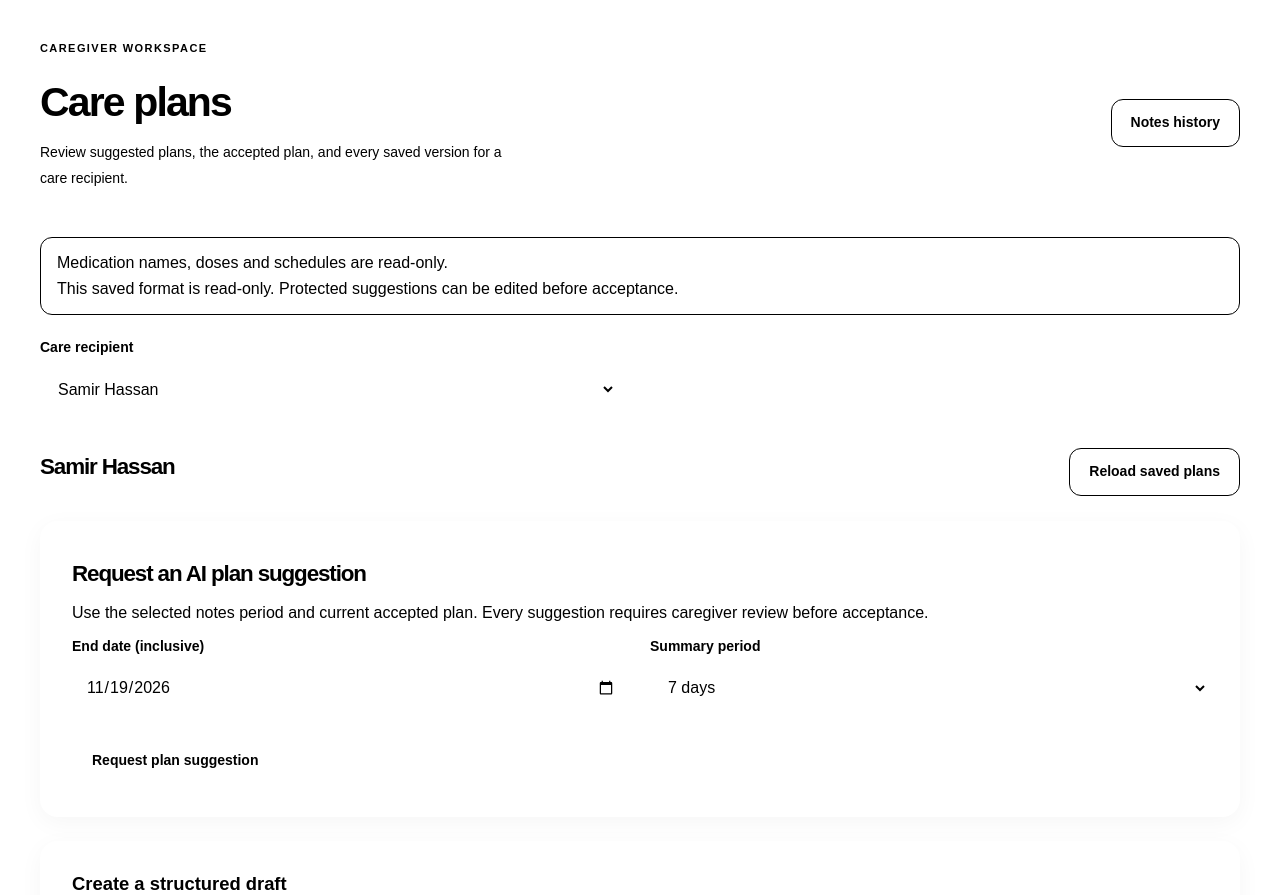
Test: care-plan review and authoritative backend decisions › generates a plan using current in-memory BYOK credentials
Step 1. Type "2026-10-22" into the date field labelled "End date (inclusive)" → (351, 688), box [72,663,630,713]
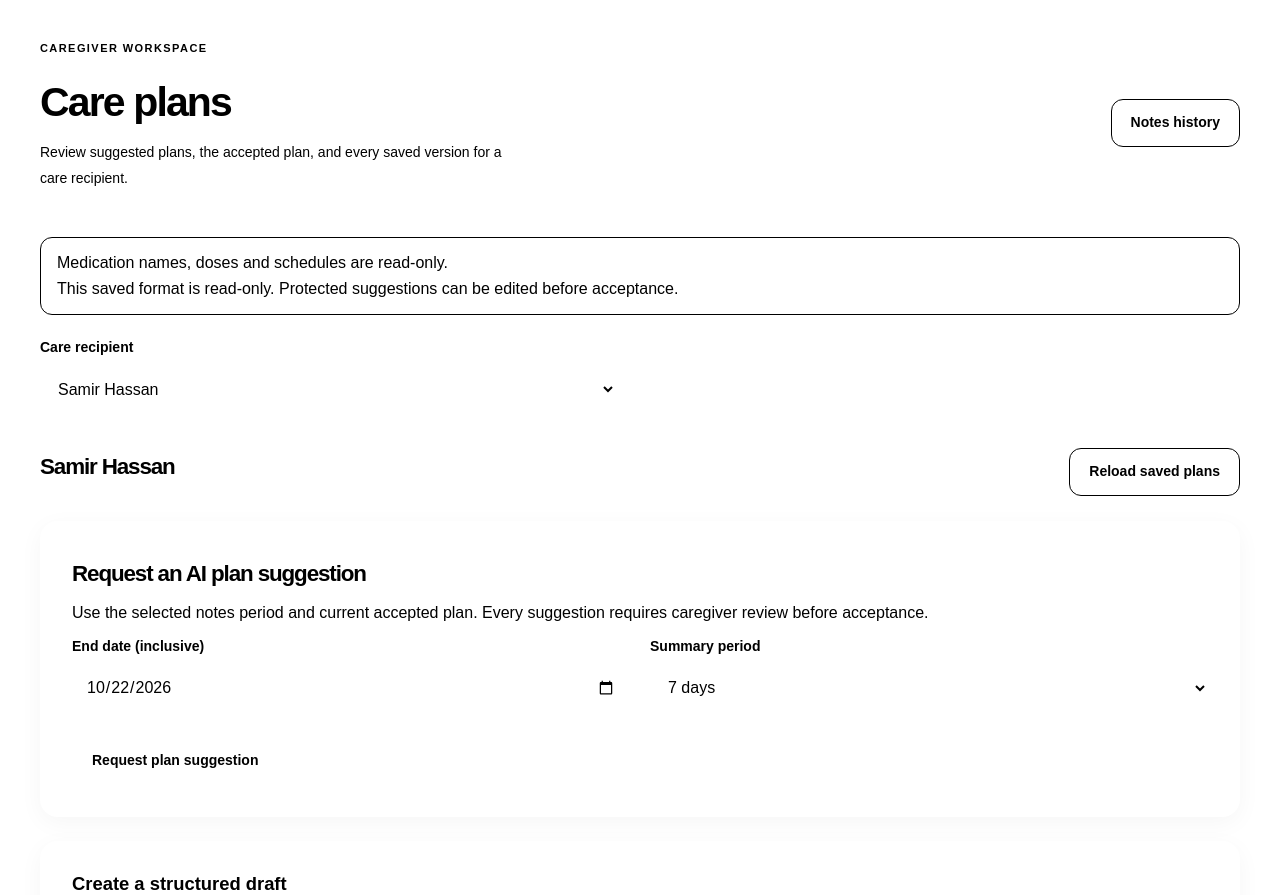
Step 2. Select "14 days" in the dropdown labelled "Summary period" → (929, 688), box [650,663,1208,713]
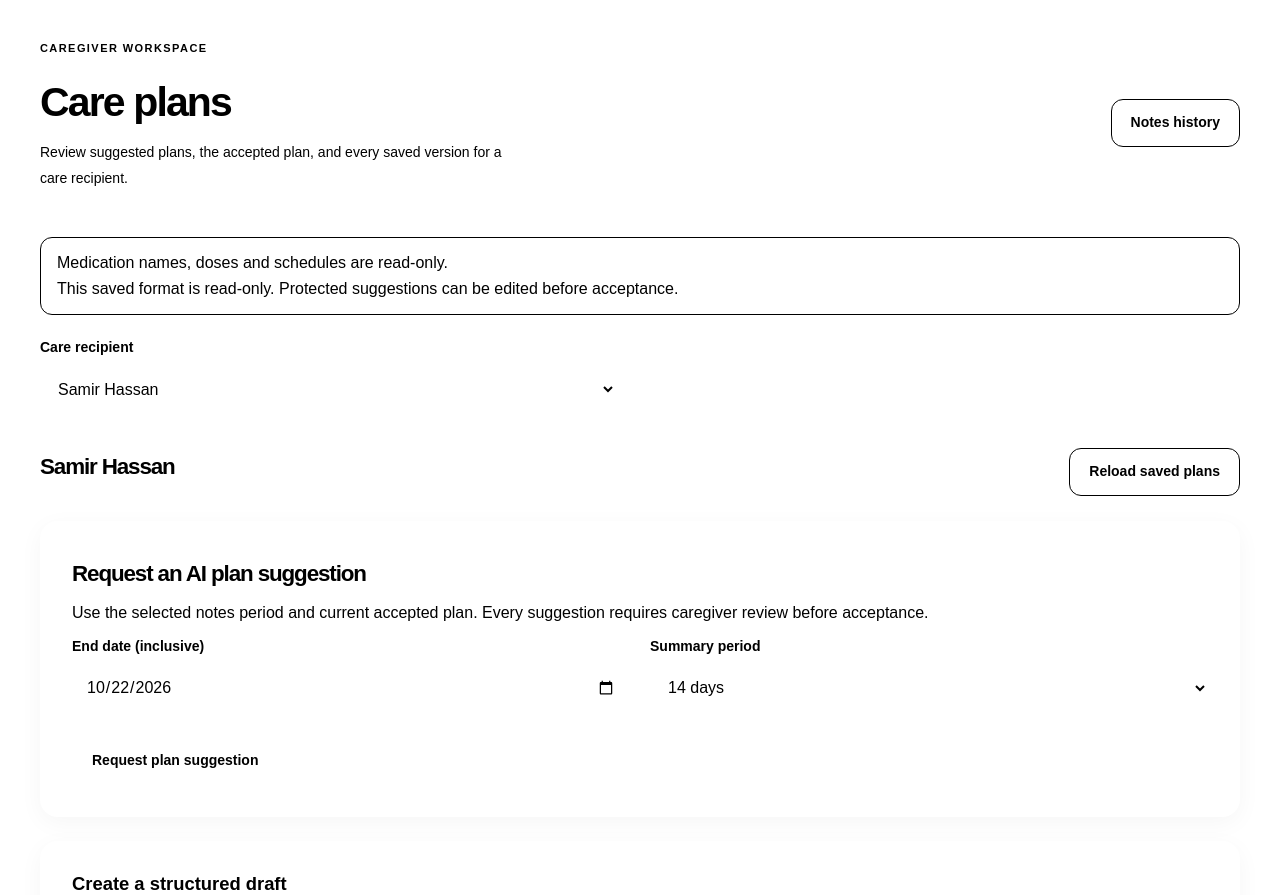
Step 3. Click the button "Request plan suggestion" → (175, 761), box [72,737,278,785]
(page scrolled)
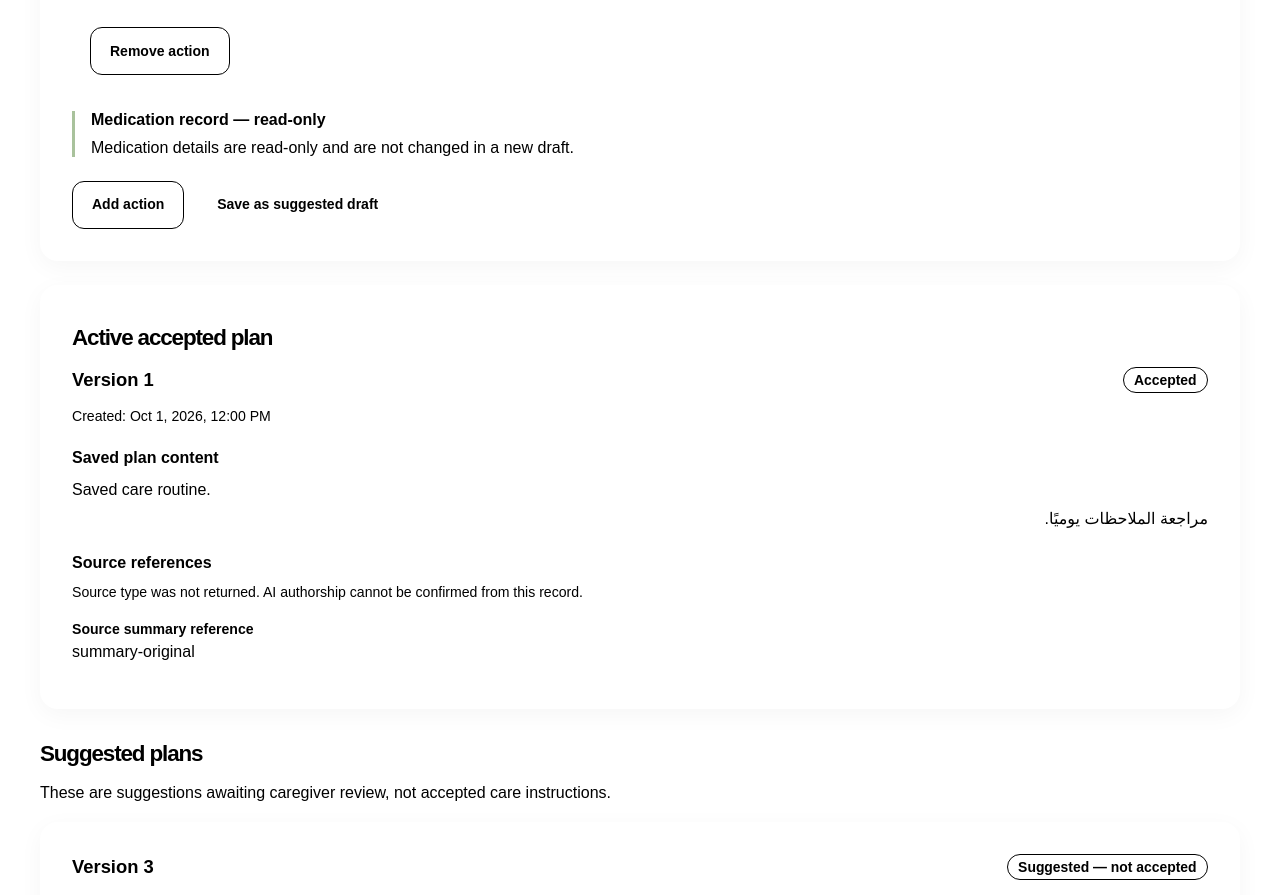
Expected: the text "Suggested — not accepted" is shown 2 times
